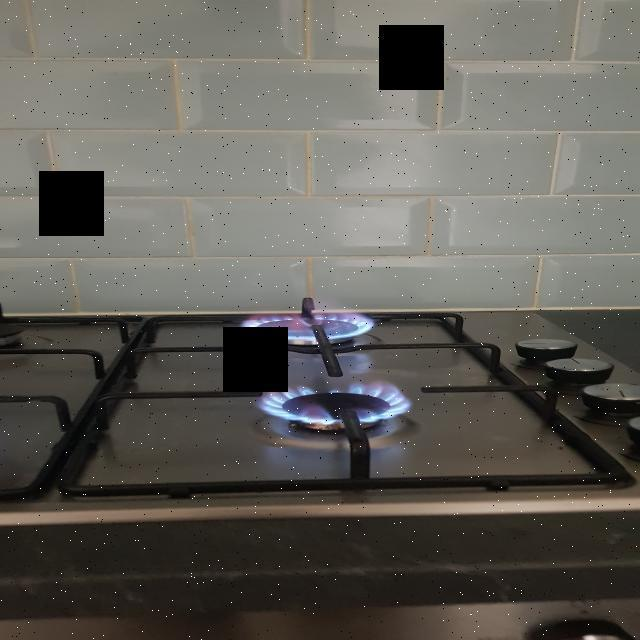Flame: (256, 383, 428, 426), (231, 305, 379, 353)
